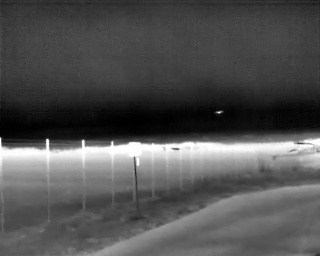AIRPLANE: (214, 108, 225, 116)
